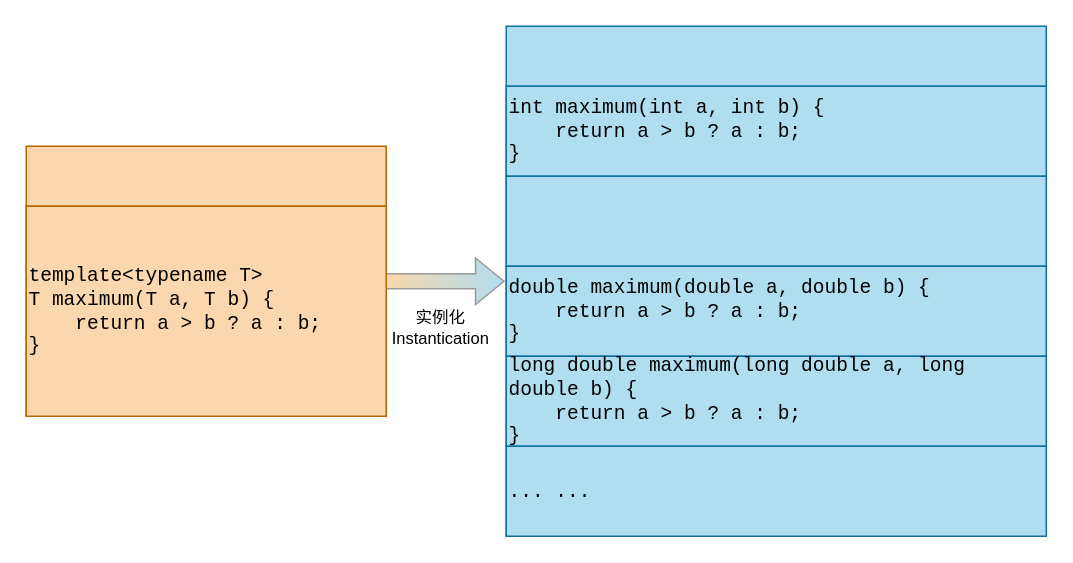
Some shapes in this 1073 by 563 pixel diagram are drawn without their labels. Each missing label, with the box of its shape:
long long maximum(long long a, long long b) { return a > b ? a : b; }: (505, 175, 1046, 266)
函数实例 Instance: (505, 25, 1046, 536)
函数模版 Template: (25, 145, 386, 416)
